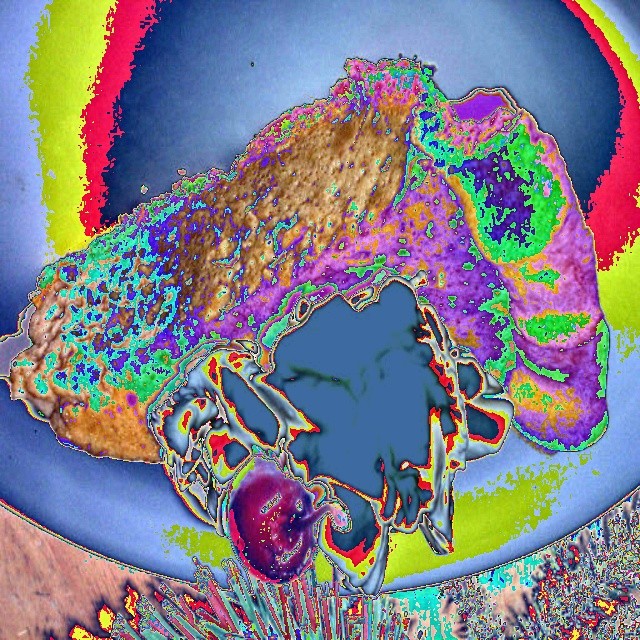background: (9, 59, 611, 601)
